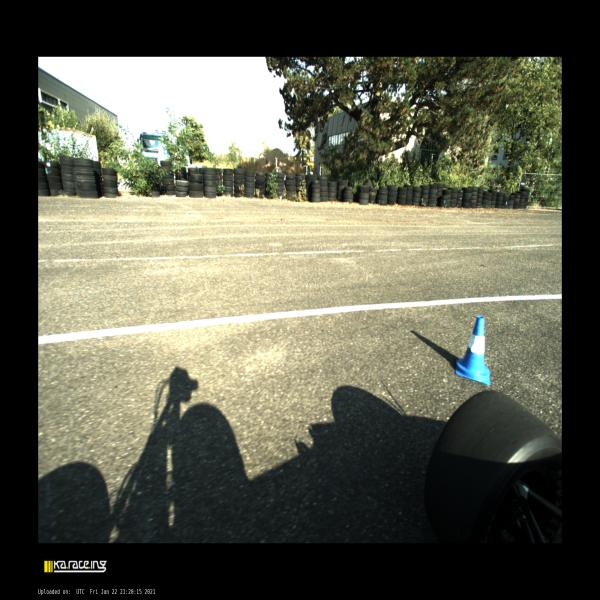blue_cone: (456, 316, 490, 385)
